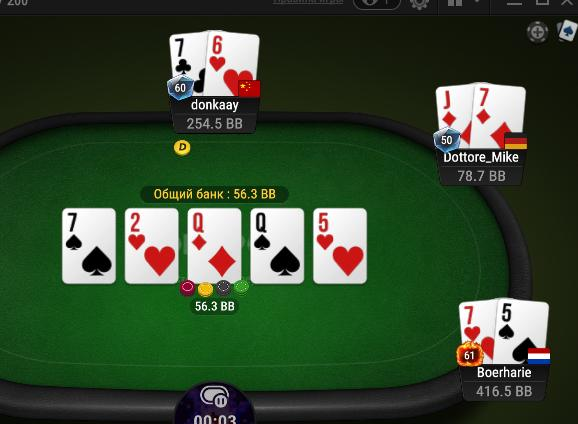2h: (126, 210, 178, 282)
5h: (314, 210, 365, 281)
5s: (496, 298, 549, 365)
6h: (207, 31, 259, 96)
7c: (168, 32, 206, 96)
7d: (472, 81, 526, 148)
7h: (459, 299, 495, 364)
7s: (63, 210, 115, 283)
Jd: (435, 84, 473, 148)
Qd: (188, 209, 241, 284)
Qs: (251, 210, 304, 284)
